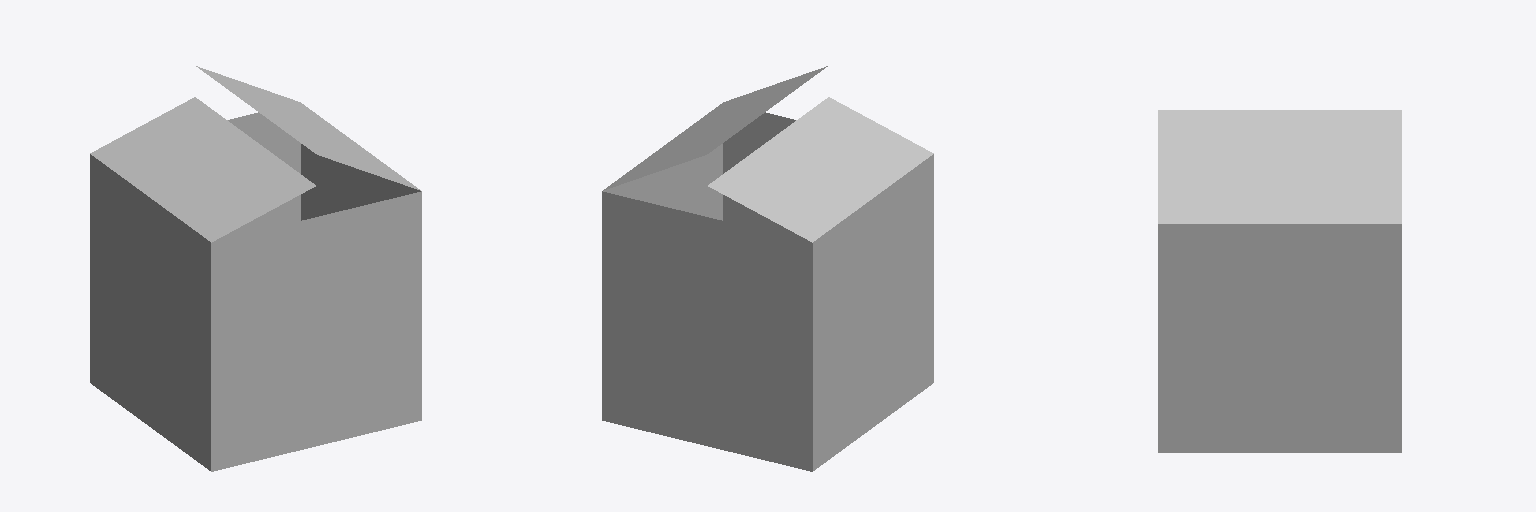
Rendered from cardboardBoxClosed.obj.
The picture shows the model from 3 angles: view 1: azimuth 30°, elevation 25°; view 2: azimuth 150°, elevation 25°; view 3: azimuth 270°, elevation 25°; orthographic projection.
Visible parts, largest first — view 1: cardboardBoxClosed; view 2: cardboardBoxClosed; view 3: cardboardBoxClosed.
Boxes of the visible parts, x1=… form: cardboardBoxClosed: x1=90, y1=66, x2=421, y2=471; cardboardBoxClosed: x1=602, y1=66, x2=933, y2=471; cardboardBoxClosed: x1=1158, y1=110, x2=1401, y2=452.
Size of the model in its own units: 0.2125 by 0.281 by 0.2125.